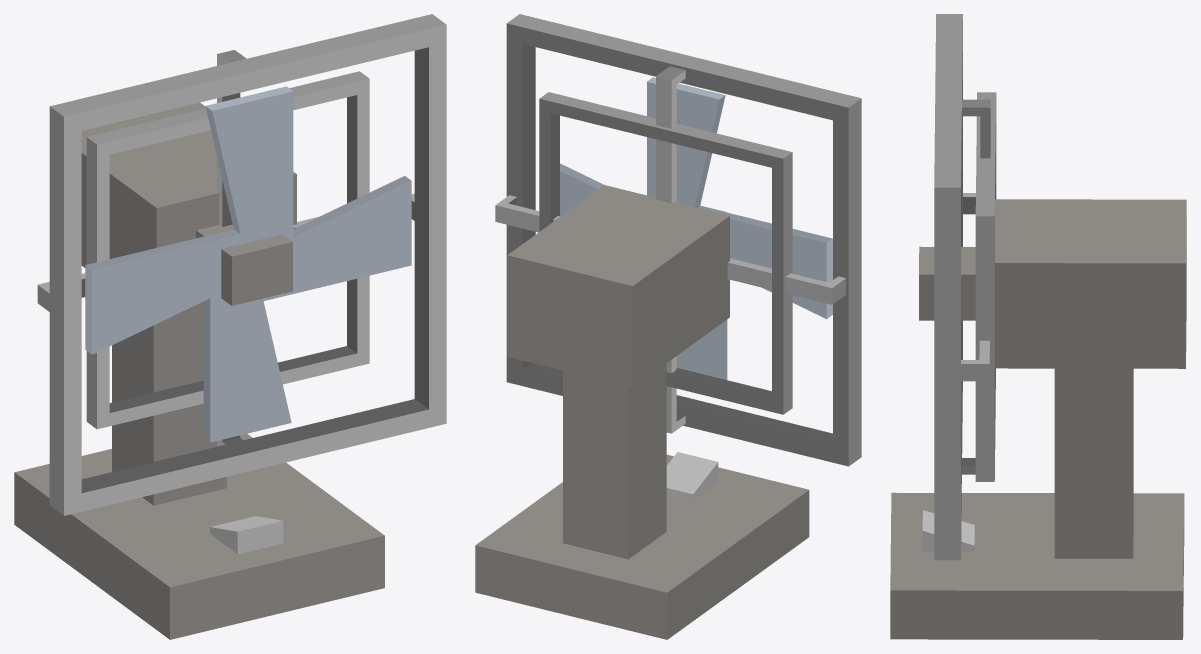
Rendered from DeskFan.glb.
3 renders of one model, left to right at view 1: azimuth 30°, elevation 25°; view 2: azimuth 150°, elevation 25°; view 3: azimuth 270°, elevation 25°, orthographic. The views are drawn at different scales.
Parts seen in each view (by area): view 1: SO_Deskfan, SO_Deskfan_Blade; view 2: SO_Deskfan, SO_Deskfan_Blade; view 3: SO_Deskfan.
Part boxes in pixels (x1=…): SO_Deskfan: x1=14, y1=14, x2=446, y2=639; SO_Deskfan_Blade: x1=85, y1=86, x2=411, y2=442; SO_Deskfan: x1=475, y1=14, x2=861, y2=639; SO_Deskfan_Blade: x1=560, y1=77, x2=832, y2=379; SO_Deskfan: x1=890, y1=14, x2=1186, y2=639.
Bounding box in the file's own units: 0.00446 × 0.00587 × 0.00321.
1 material, 1 textured.
